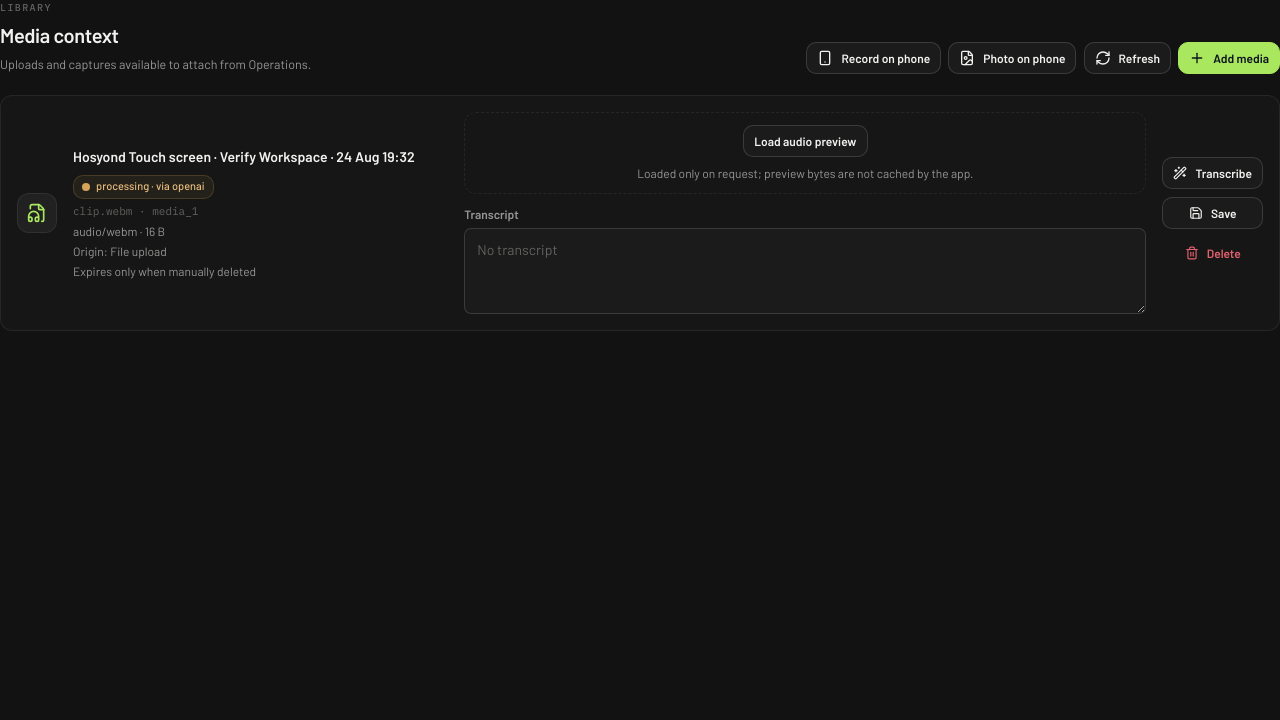
Test: the delete confirmation names the capture the way the row does
The image size is (1280, 720).
Step 1. Click the button "Delete" → (1213, 253), box [1162, 237, 1263, 269]
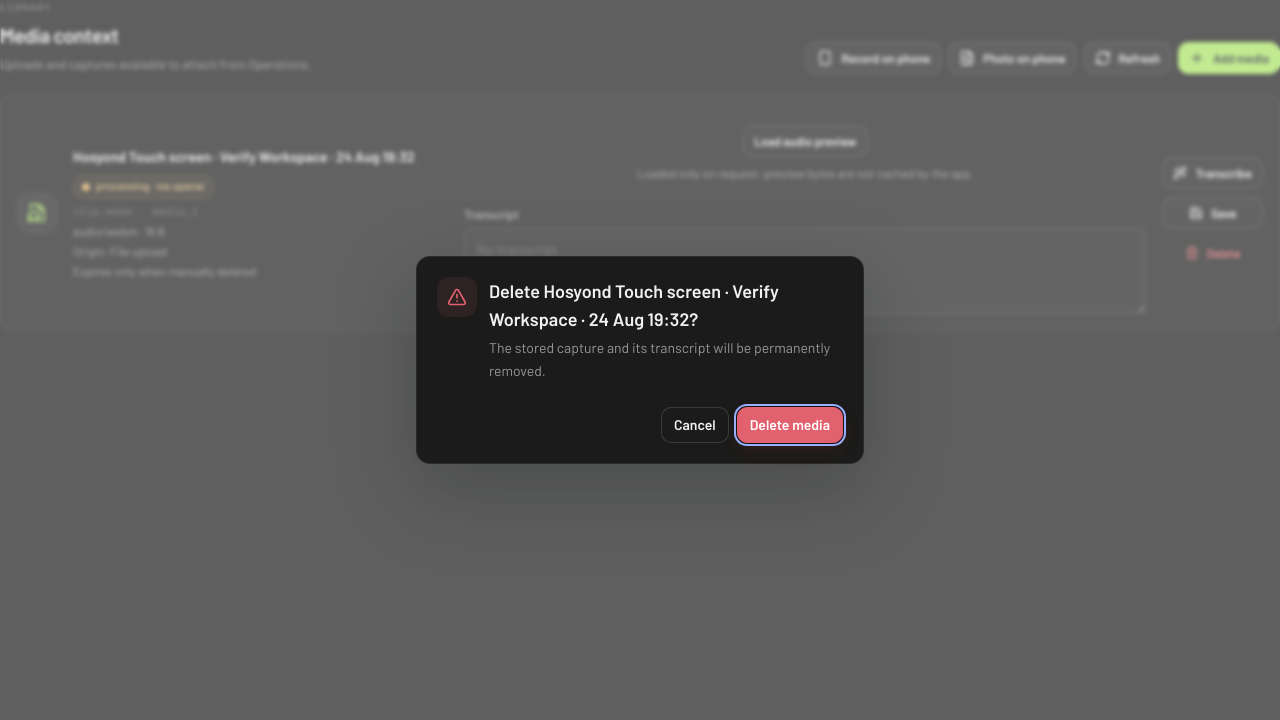
expect the heading "Delete Hosyond Touch screen · Verify Workspace · 24 Aug 19:32?" is shown: met, box [489, 280, 779, 330]
